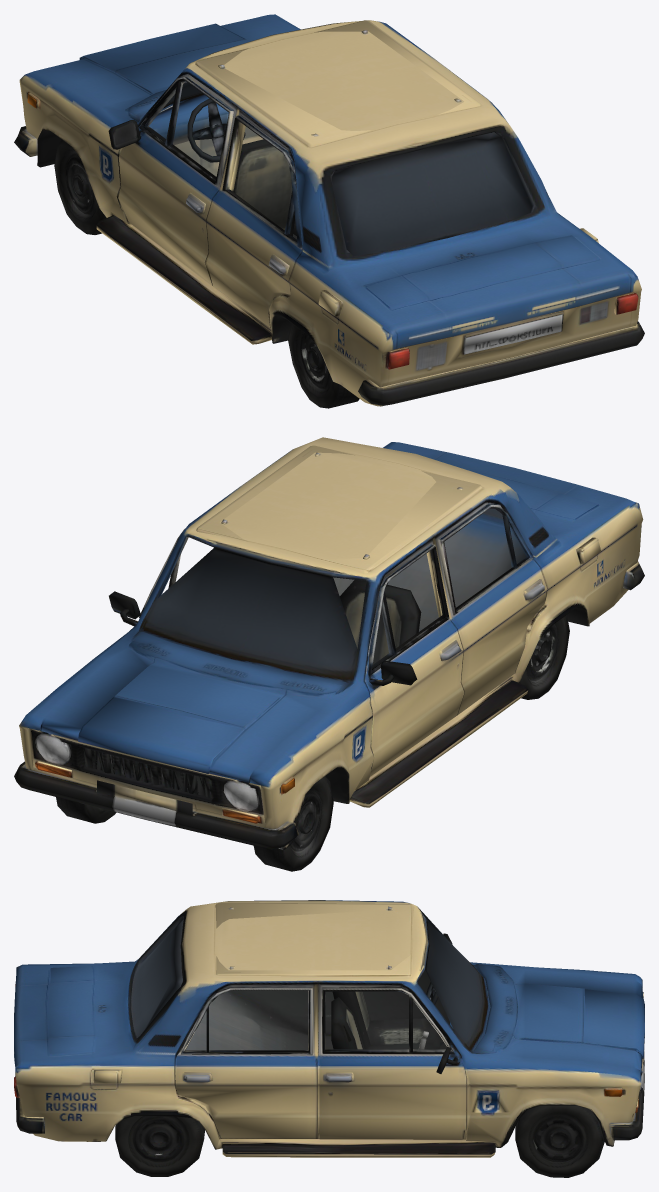
Rendered from car.glb.
3 renders of one model, top to bottom at view 1: azimuth 30°, elevation 25°; view 2: azimuth 150°, elevation 25°; view 3: azimuth 270°, elevation 25°, orthographic. The views are drawn at different scales.
Visible parts, largest first — view 1: tripo_node_cf87b2d5-afb3-4ec8-8a9a-e2dc3540aac0; view 2: tripo_node_cf87b2d5-afb3-4ec8-8a9a-e2dc3540aac0; view 3: tripo_node_cf87b2d5-afb3-4ec8-8a9a-e2dc3540aac0.
Boxes of the visible parts, bbox=[...] form: tripo_node_cf87b2d5-afb3-4ec8-8a9a-e2dc3540aac0: bbox=[14, 14, 644, 408]; tripo_node_cf87b2d5-afb3-4ec8-8a9a-e2dc3540aac0: bbox=[14, 437, 644, 871]; tripo_node_cf87b2d5-afb3-4ec8-8a9a-e2dc3540aac0: bbox=[14, 900, 644, 1177].
Bounding box in the file's own units: 0.4707 × 0.3379 × 0.998.
1 material, 1 textured.
